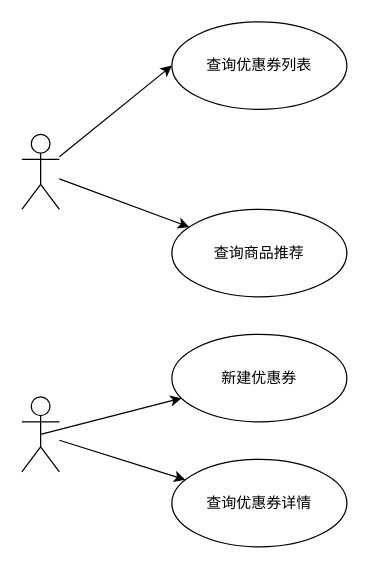
Some shapes in this 369 by 569 pixel diagram are drawn without their labels. The shapes that lost their labels are listed below. From the top down, each one's centre as x and y in pixels, then its label:
At point 40,171: "商城".
At point 40,434: "CMS".
